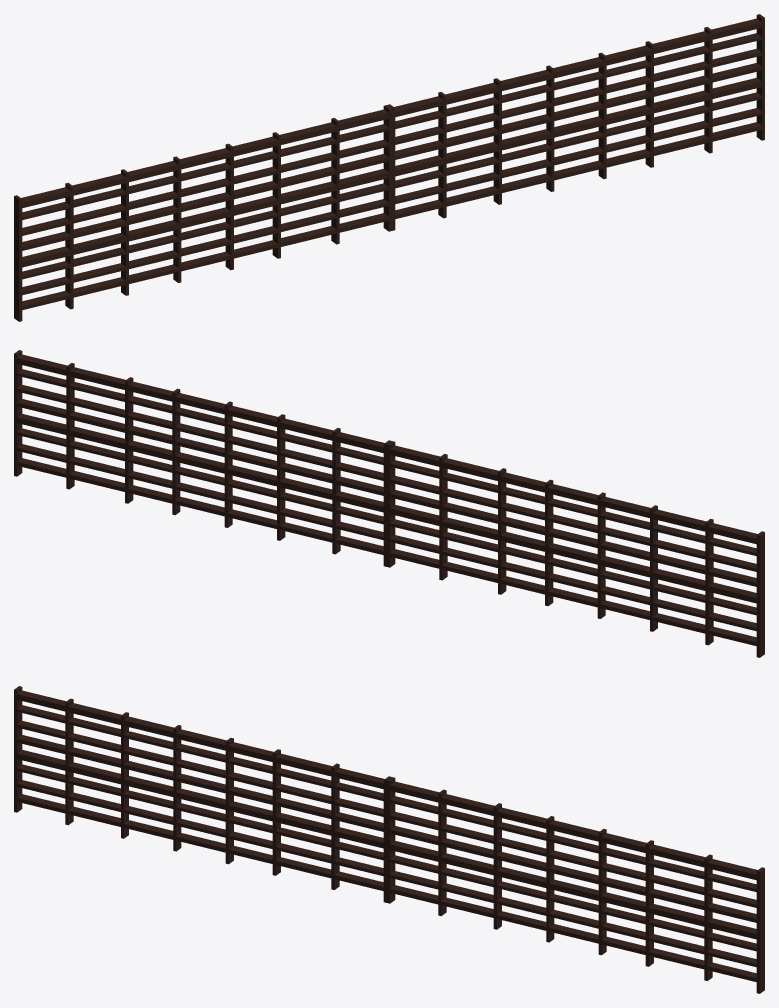
Rendered from plane.005_lev3.glb.
3 views of the same model, one above another, from view 1: azimuth 30°, elevation 25°; view 2: azimuth 150°, elevation 25°; view 3: azimuth 330°, elevation 25° (orthographic).
Visible parts, largest first — view 1: plane.005_lev3; view 2: plane.005_lev3; view 3: plane.005_lev3.
Part boxes in pixels (<box>): plane.005_lev3: <box>14,14,764,321</box>; plane.005_lev3: <box>14,350,764,657</box>; plane.005_lev3: <box>14,686,764,993</box>.
Size of the model in its own units: 4.83 by 0.756 by 0.0571.
